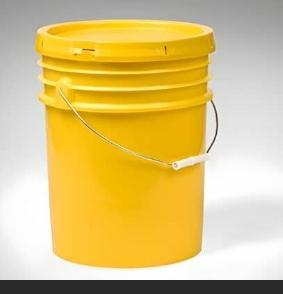SEAU: (8, 8, 245, 282)
